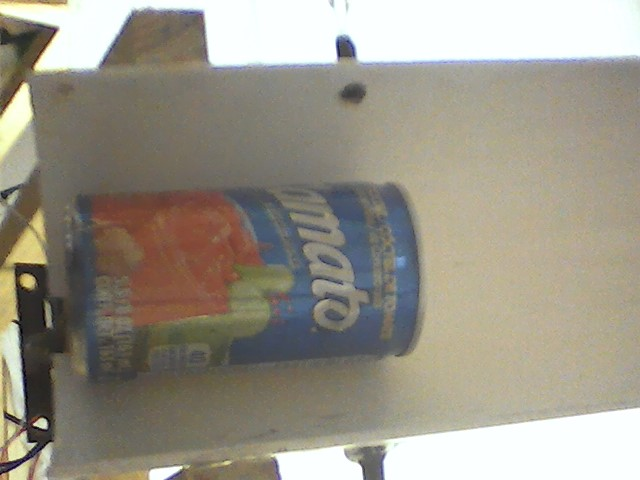lata: (57, 177, 434, 378)
